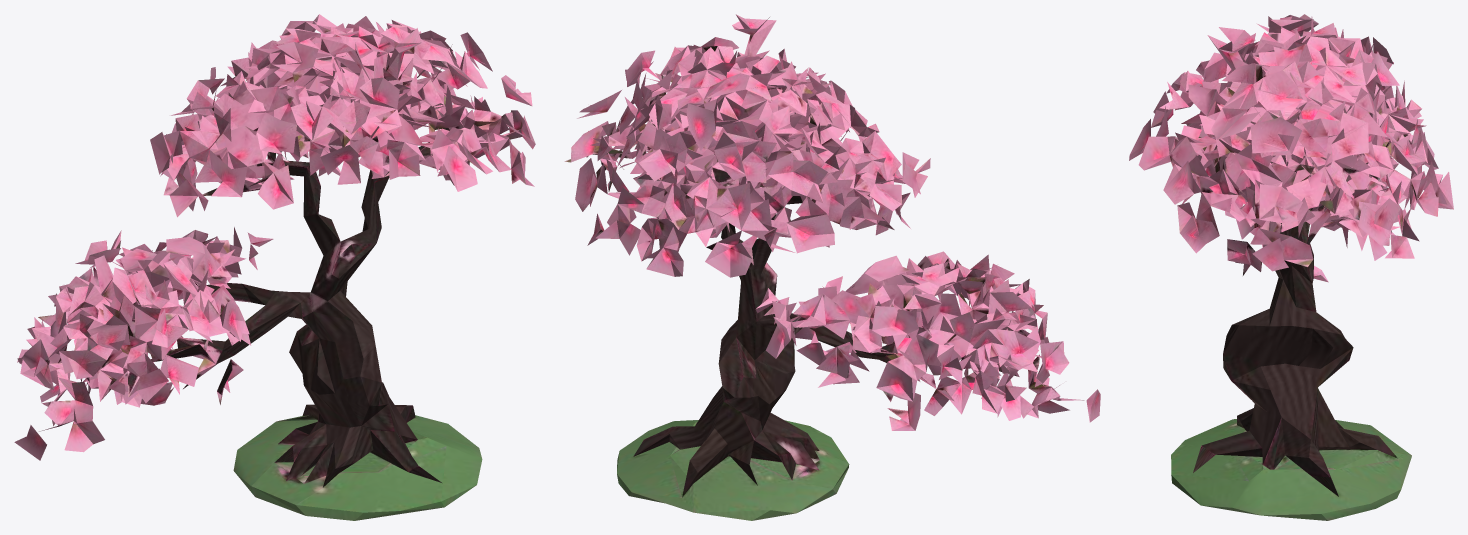
Rendered from nat-sakura.glb.
3 views of the same model, side by side, from view 1: azimuth 30°, elevation 25°; view 2: azimuth 150°, elevation 25°; view 3: azimuth 270°, elevation 25° (orthographic). The views are drawn at different scales.
Bounding box in the file's own units: 1.9 × 1.55 × 1.03.
Materials: 1 (1 with a texture image).
